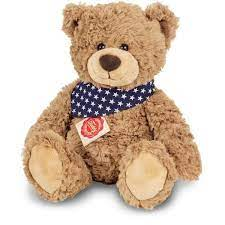teddy: (19, 2, 214, 216)
